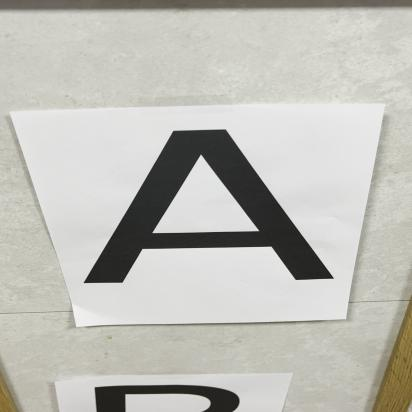seat: (73, 111, 359, 321)
